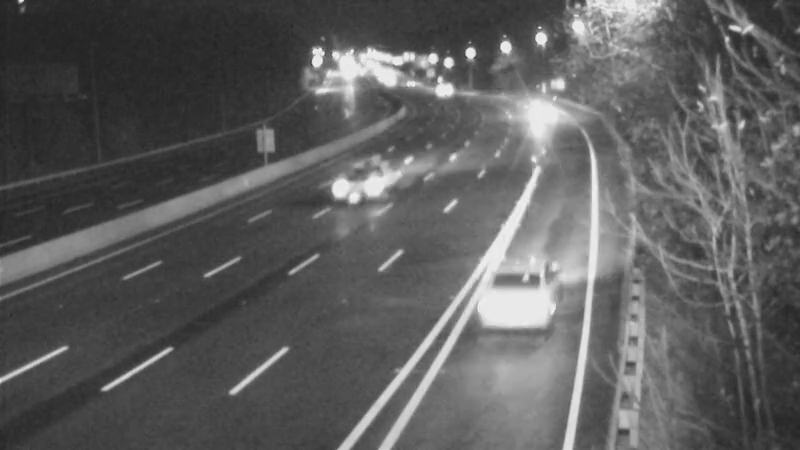vehicle: (457, 247, 567, 357), (321, 147, 401, 227), (380, 58, 430, 108), (415, 62, 465, 112), (519, 94, 569, 144)
